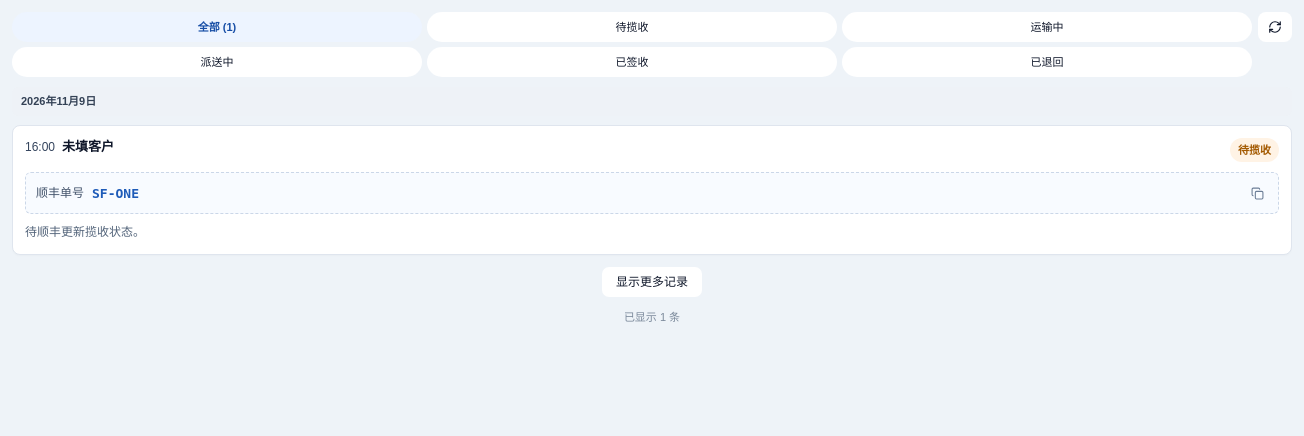
Test case: loads shared records, appends a page from the primary action and refreshes from page zero
Expected: the list item with aria-label "提报 ONE" is shown, [12,125,1292,255]
What coordinates should you click on to do the following:
click the button "显示更多记录"
I would click on:
 (652, 282)
Its box is [602,267,702,297].
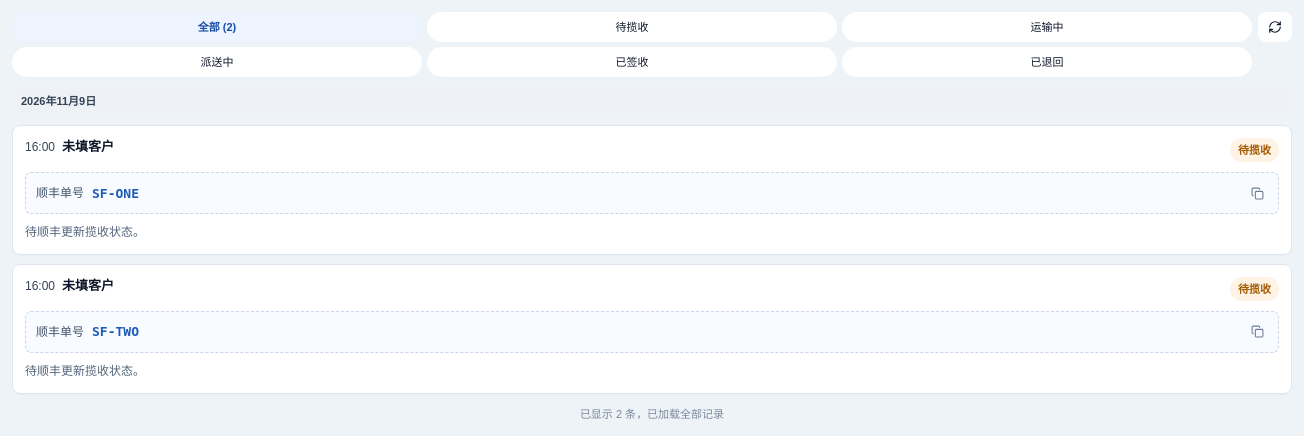
Now the list item with aria-label "提报 TWO" is shown, box [12,264,1292,394]
Now the number of list items is 2, box [12,125,1292,255]; [12,264,1292,394]
Now the text "已显示 2 条，已加载全部记录" is shown, box [580,408,724,420]
What coordinates should you click on to do the following:
click the button named "刷新提报记录"
I would click on:
 (1275, 27)
Its box is [1258,12,1292,42].
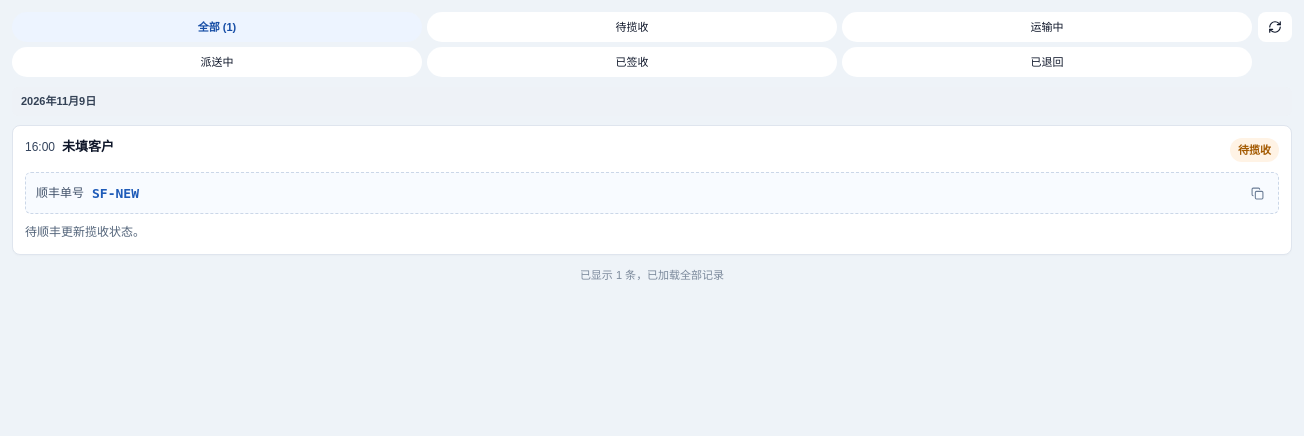
Now the list item with aria-label "提报 NEW" is shown, box [12,125,1292,255]
